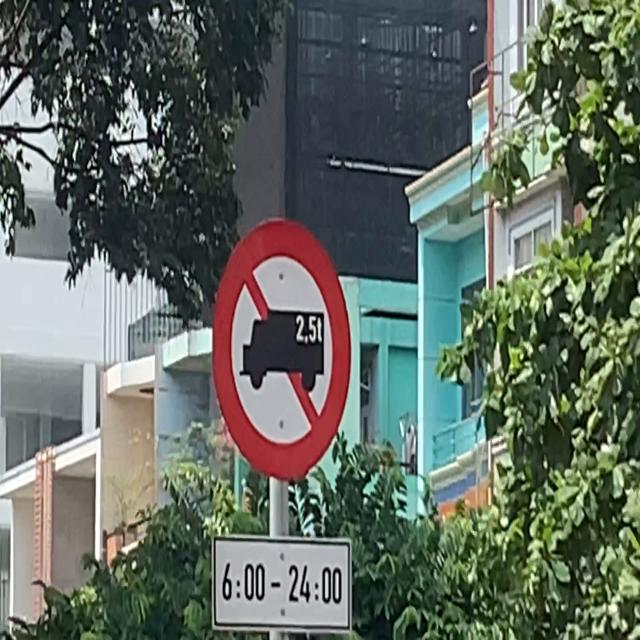Cam con lai: (210, 214, 357, 486)
